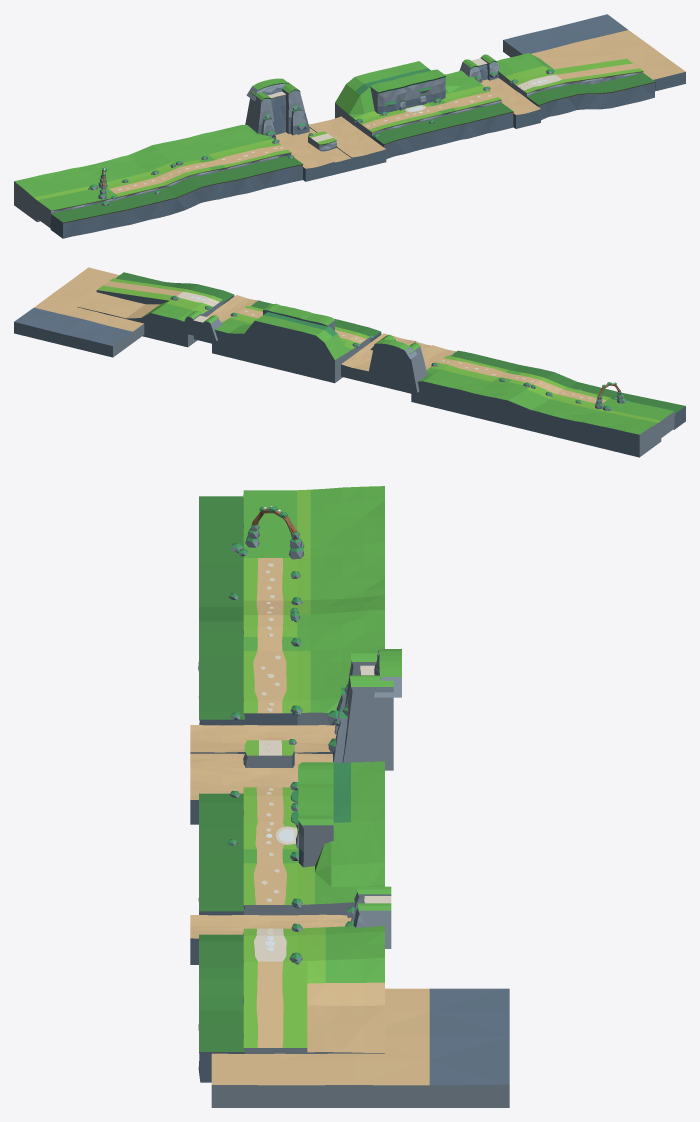
File: L01_Terrain.fbx
3 views of the same model, one above another, from view 1: azimuth 30°, elevation 25°; view 2: azimuth 150°, elevation 25°; view 3: azimuth 270°, elevation 25° (orthographic). The views are drawn at different scales.
Visible parts, largest first — view 1: TER_MainGround_Continuous, TER_Rocks_Pavers_Arch; view 2: TER_MainGround_Continuous, TER_Rocks_Pavers_Arch; view 3: TER_MainGround_Continuous, TER_Rocks_Pavers_Arch.
Part boxes in pixels (<box>): TER_MainGround_Continuous: <box>14,14,685,238</box>; TER_Rocks_Pavers_Arch: <box>88,69,554,205</box>; TER_MainGround_Continuous: <box>14,267,685,457</box>; TER_Rocks_Pavers_Arch: <box>170,295,630,410</box>; TER_MainGround_Continuous: <box>190,486,509,1107</box>; TER_Rocks_Pavers_Arch: <box>228,506,354,964</box>.
Bounding box in the file's own units: 129 × 11.86 × 30.
